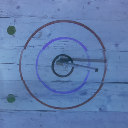Axe Tip: (60, 58, 70, 61)
